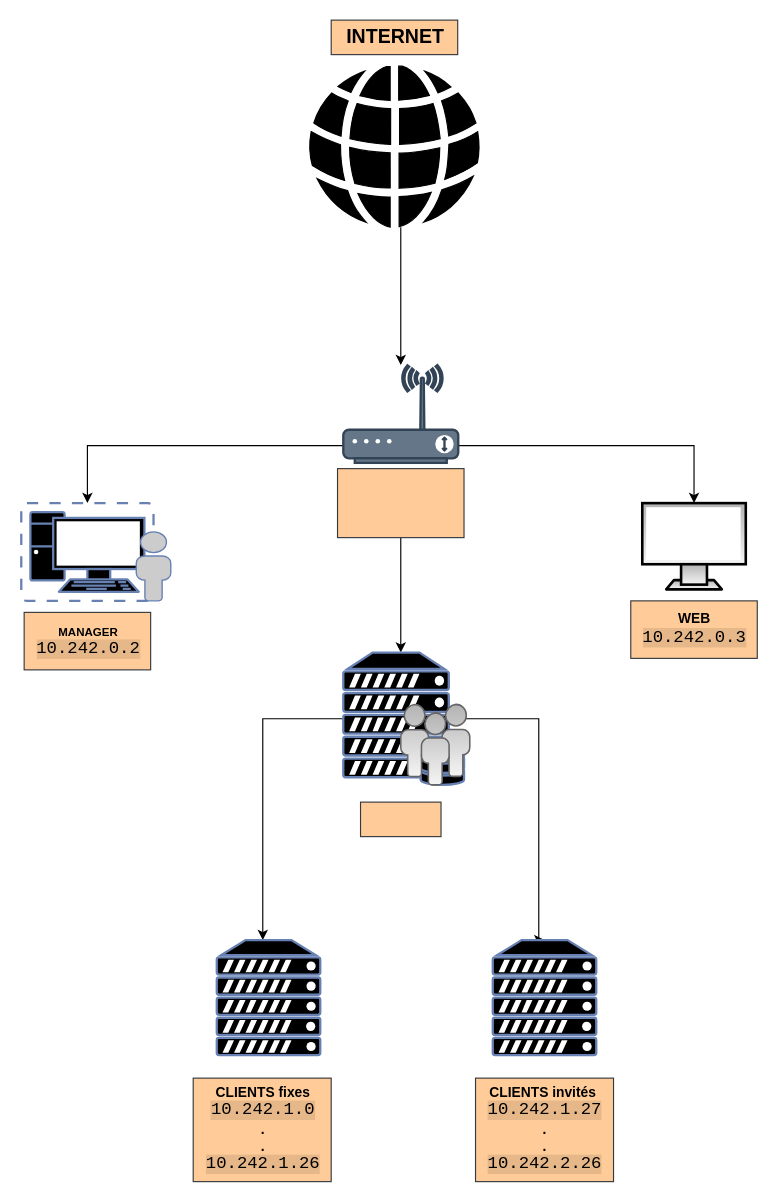
This 777x1202 diagram has some shape labels left out. The box of each missing label's shape, as (x1, y1, x2, y2) in pixels:
CLIENTS: (359, 801, 441, 837)
GATEWAY 10.242.0.1: (336, 467, 464, 538)
